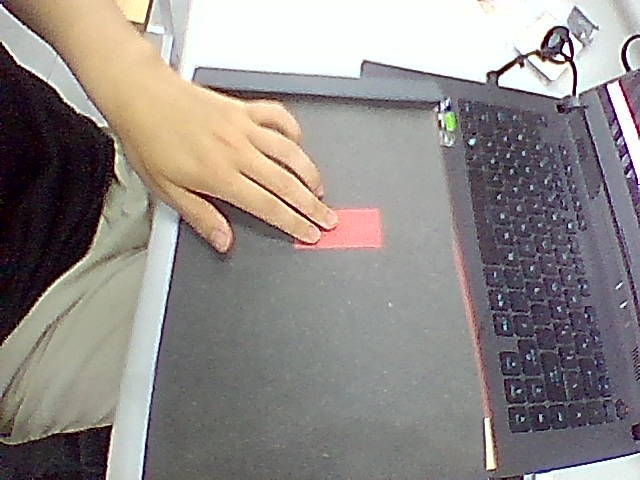card: (294, 209, 382, 249)
